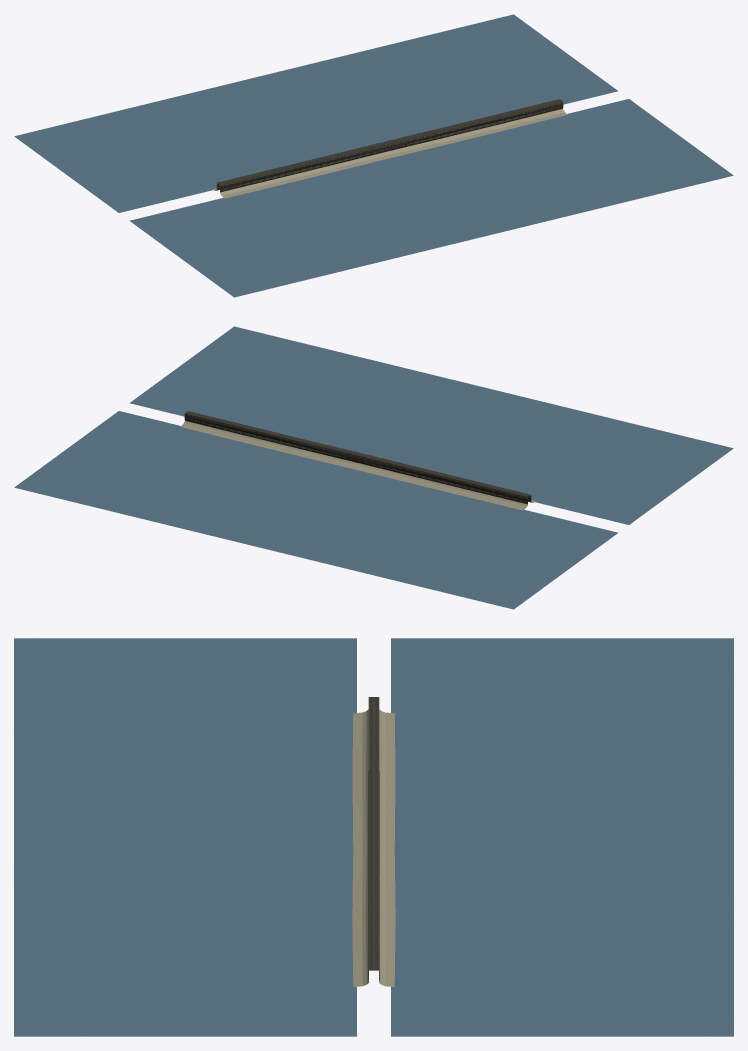
The model's file is moving.obj.
The picture shows the model from 3 angles, top to bottom: view 1: azimuth 30°, elevation 25°; view 2: azimuth 150°, elevation 25°; view 3: azimuth 270°, elevation 25°; orthographic projection. The views are drawn at different scales.
Visible parts, largest first — view 1: moving_Plane.005; view 2: moving_Plane.005; view 3: moving_Plane.005.
Boxes of the visible parts, <box> form: moving_Plane.005: <box>14,14,733,297</box>; moving_Plane.005: <box>14,326,733,609</box>; moving_Plane.005: <box>14,638,733,1036</box>.
Bounding box in the file's own units: 896 × 18.55 × 684.
6 materials, 6 textured.
